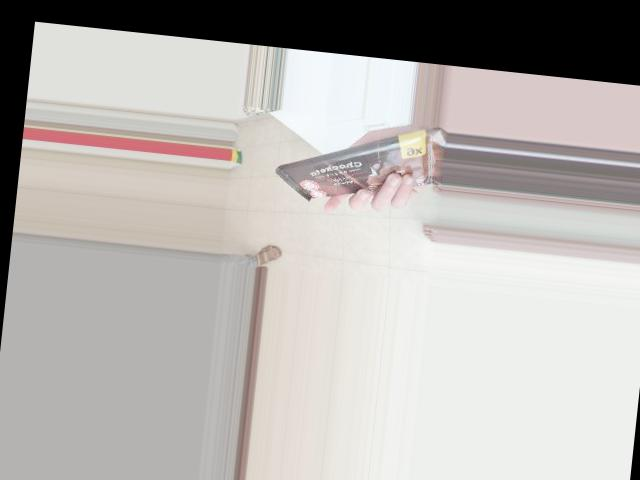chocolate: (276, 121, 447, 211)
